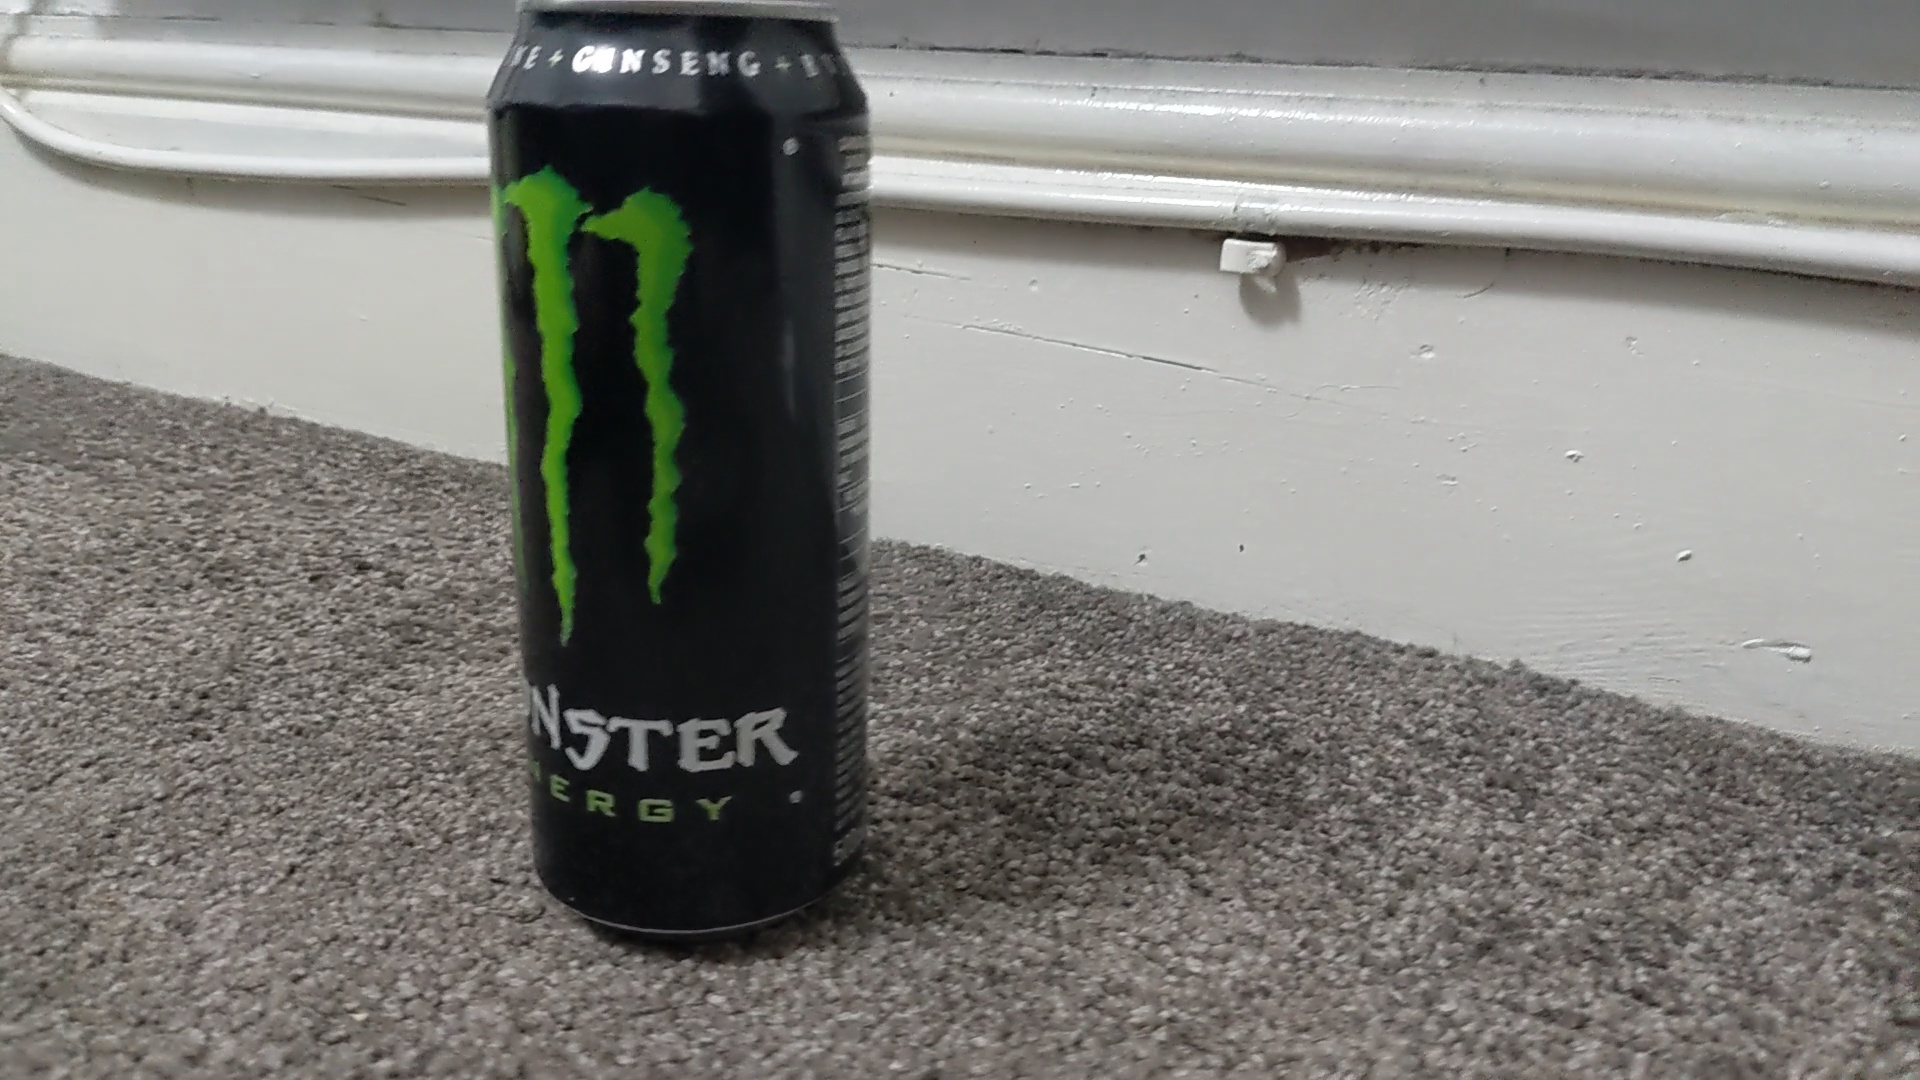monster-original: (483, 1, 872, 935)
